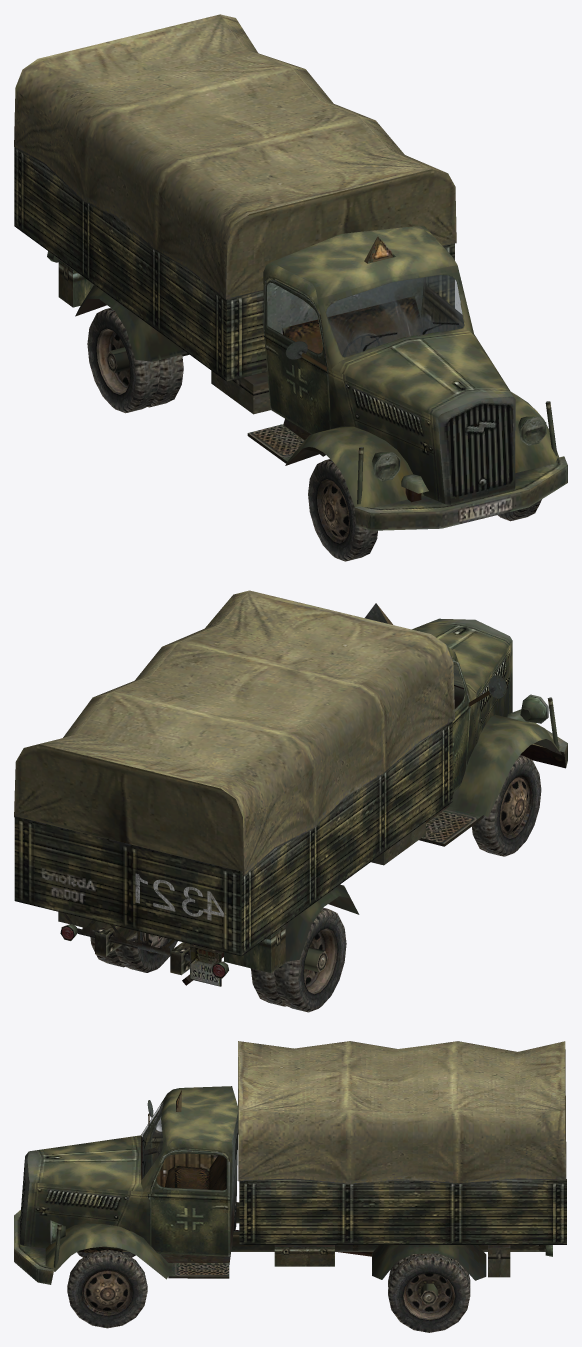
File: german_supply.glb
The picture shows the model from 3 angles, top to bottom: view 1: azimuth 30°, elevation 25°; view 2: azimuth 150°, elevation 25°; view 3: azimuth 270°, elevation 25°; orthographic projection. The views are drawn at different scales.
Parts seen in each view (by area): view 1: mow_bodyback, mow_engine, mow_cabin, mow_glass, mow_doorl, mow_wheell2, mow_body, mow_wheell1, mow_doorr; view 2: mow_bodyback, mow_engine, mow_body, mow_wheell2, mow_wheell1, mow_doorl, mow_wheelr2, mow_enumerator1, mow_cabin; view 3: mow_bodyback, mow_engine, mow_cabin, mow_doorr, mow_body, mow_wheelr2, mow_wheelr1, mow_doorl, mow_glass, mow_pivot_back.
Boxes of the visible parts, box(x1,y1,x2,y2) form: mow_bodyback: box(14, 14, 456, 381); mow_engine: box(247, 330, 567, 530); mow_cabin: box(263, 225, 473, 428); mow_glass: box(326, 275, 464, 357); mow_doorl: box(263, 279, 331, 434); mow_wheell2: box(87, 308, 183, 413); mow_body: box(47, 251, 270, 414); mow_wheell1: box(308, 459, 377, 561); mow_doorr: box(421, 277, 464, 333); mow_bodyback: box(14, 590, 454, 956); mow_engine: box(412, 618, 567, 846); mow_body: box(58, 822, 425, 986); mow_wheell2: box(251, 907, 346, 1012); mow_wheell1: box(472, 755, 541, 856); mow_doorl: box(452, 660, 506, 792); mow_wheelr2: box(90, 929, 177, 972); mow_enumerator1: box(135, 873, 224, 920); mow_cabin: box(365, 603, 477, 764); mow_bodyback: box(238, 1041, 566, 1244); mow_engine: box(14, 1135, 230, 1284); mow_cabin: box(121, 1086, 238, 1255); mow_doorr: box(148, 1149, 230, 1256); mow_body: box(77, 1202, 552, 1280); mow_wheelr2: box(388, 1253, 470, 1332); mow_wheelr1: box(67, 1249, 147, 1328); mow_doorl: box(147, 1100, 218, 1187); mow_glass: box(142, 1103, 163, 1178); mow_pivot_back: box(235, 1230, 437, 1304).
Bounding box in the file's own units: 2.67 × 3.09 × 7.07.
8 materials, 8 textured.
